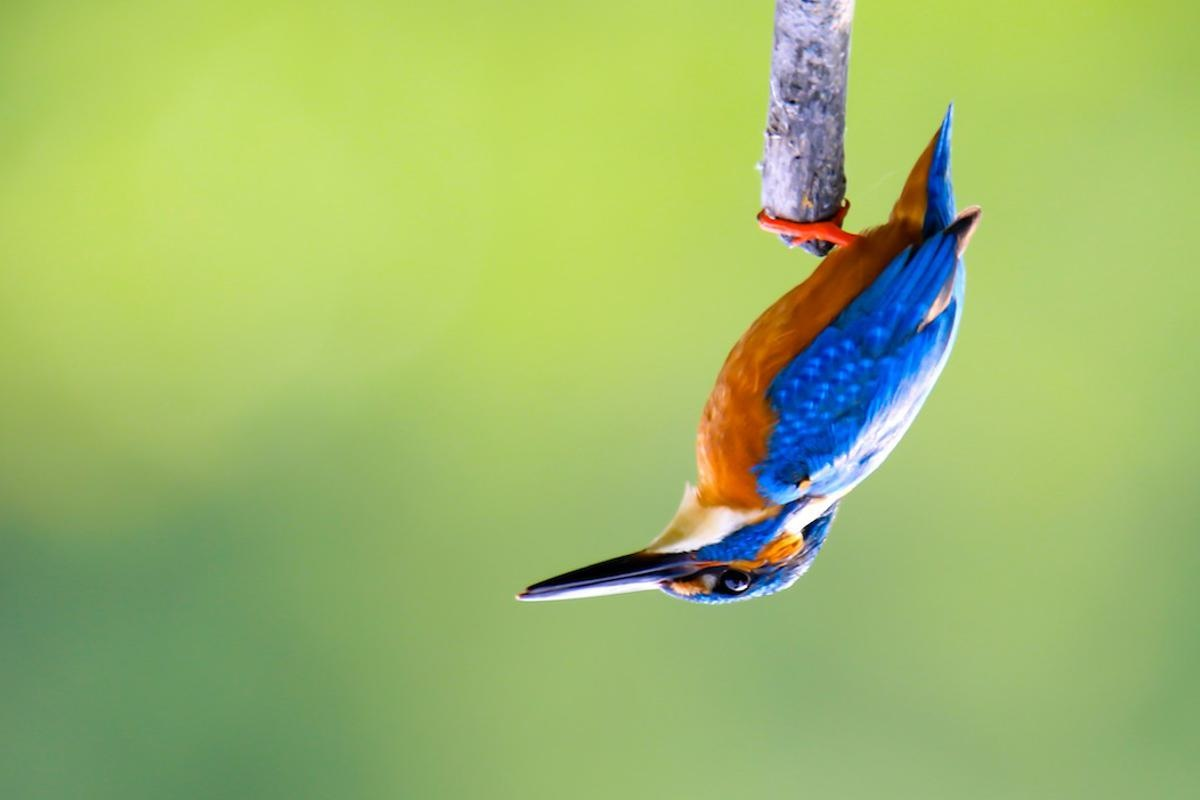kingfisher: (484, 101, 1007, 655)
